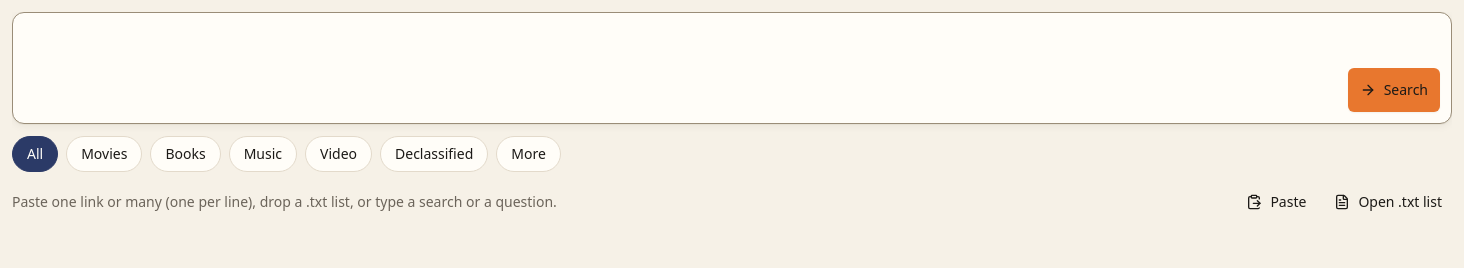
PasteBox › asks for a search or a link when empty
Click the button "Search".
click(1394, 90)  # box [1348,68,1440,112]
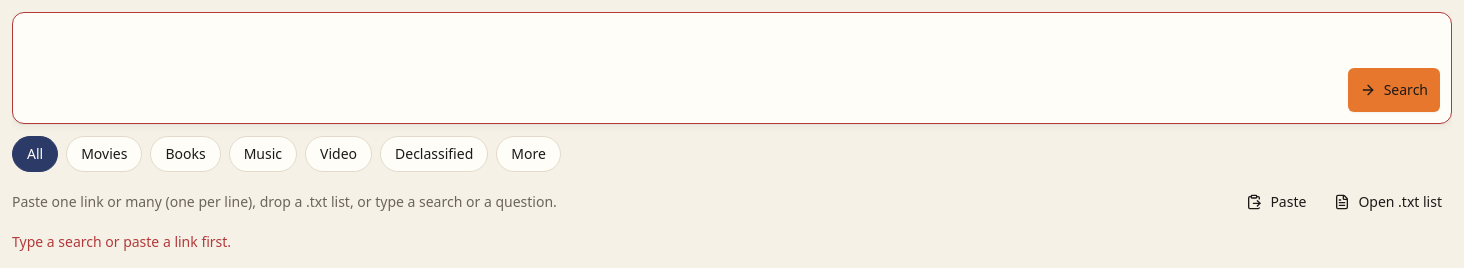
Expected: the message reads "Type a search or paste a link first.", [12,232,231,251]
